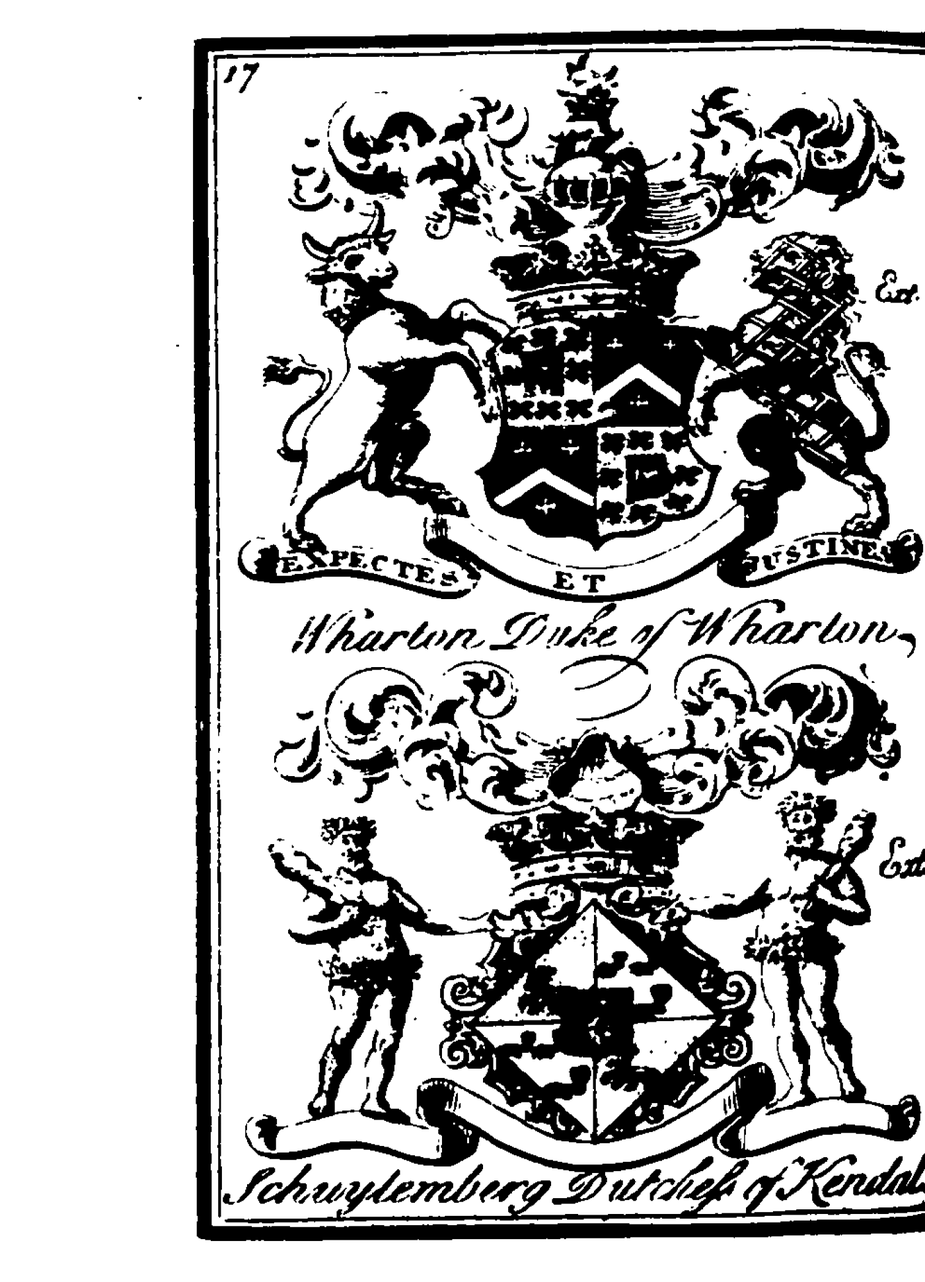coat_of_arms: (261, 66, 925, 657), (250, 654, 925, 1200)
